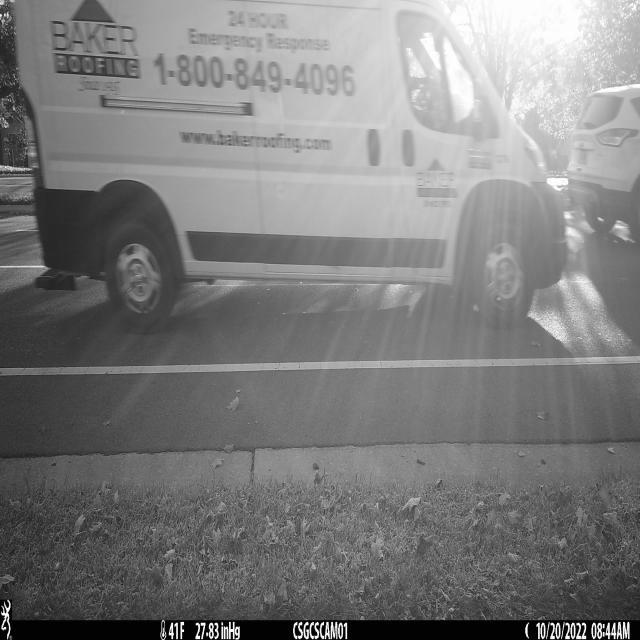Van: (9, 0, 569, 327)
